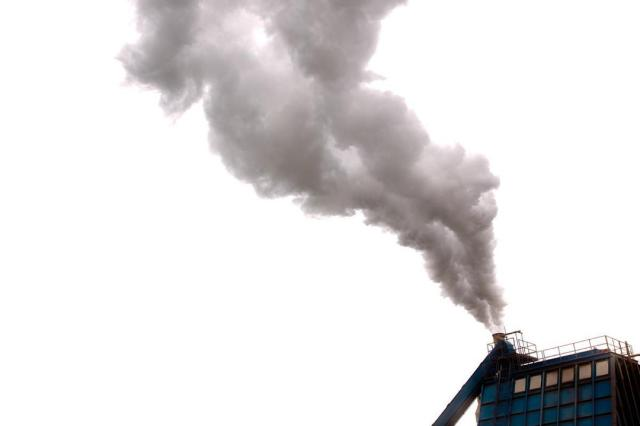smoke: (214, 2, 356, 159), (416, 152, 494, 254), (140, 2, 210, 101), (245, 164, 413, 190), (358, 91, 412, 160), (446, 257, 494, 309), (384, 194, 412, 238)
